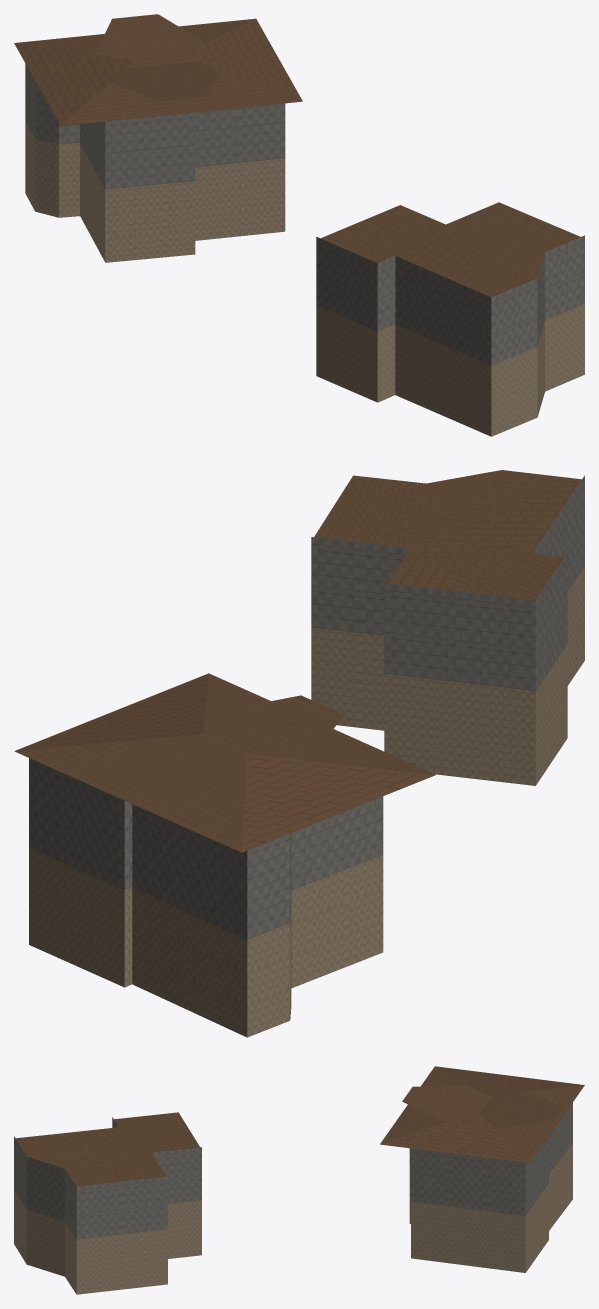
The model's file is bld_c37_46_203.gltf.
3 renders of one model, top to bottom at view 1: azimuth 30°, elevation 25°; view 2: azimuth 150°, elevation 25°; view 3: azimuth 270°, elevation 25°, orthographic. The views are drawn at different scales.
Visible parts, largest first — view 1: bld_c37_46_203; view 2: bld_c37_46_203; view 3: bld_c37_46_203.
Boxes of the visible parts, <box> form: bld_c37_46_203: <box>14,14,584,436</box>; bld_c37_46_203: <box>14,470,584,1037</box>; bld_c37_46_203: <box>14,1066,584,1294</box>.
Size of the model in its own units: 21.32 by 11.5 by 46.29.
4 materials, 4 textured.
